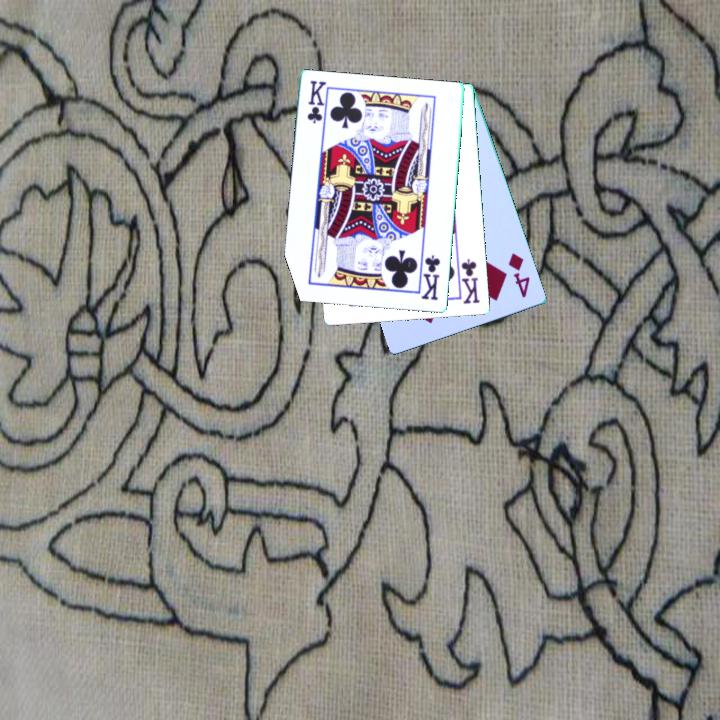4d: (505, 250, 533, 301)
Kc: (458, 255, 483, 307), (418, 252, 443, 303), (304, 77, 328, 126)
